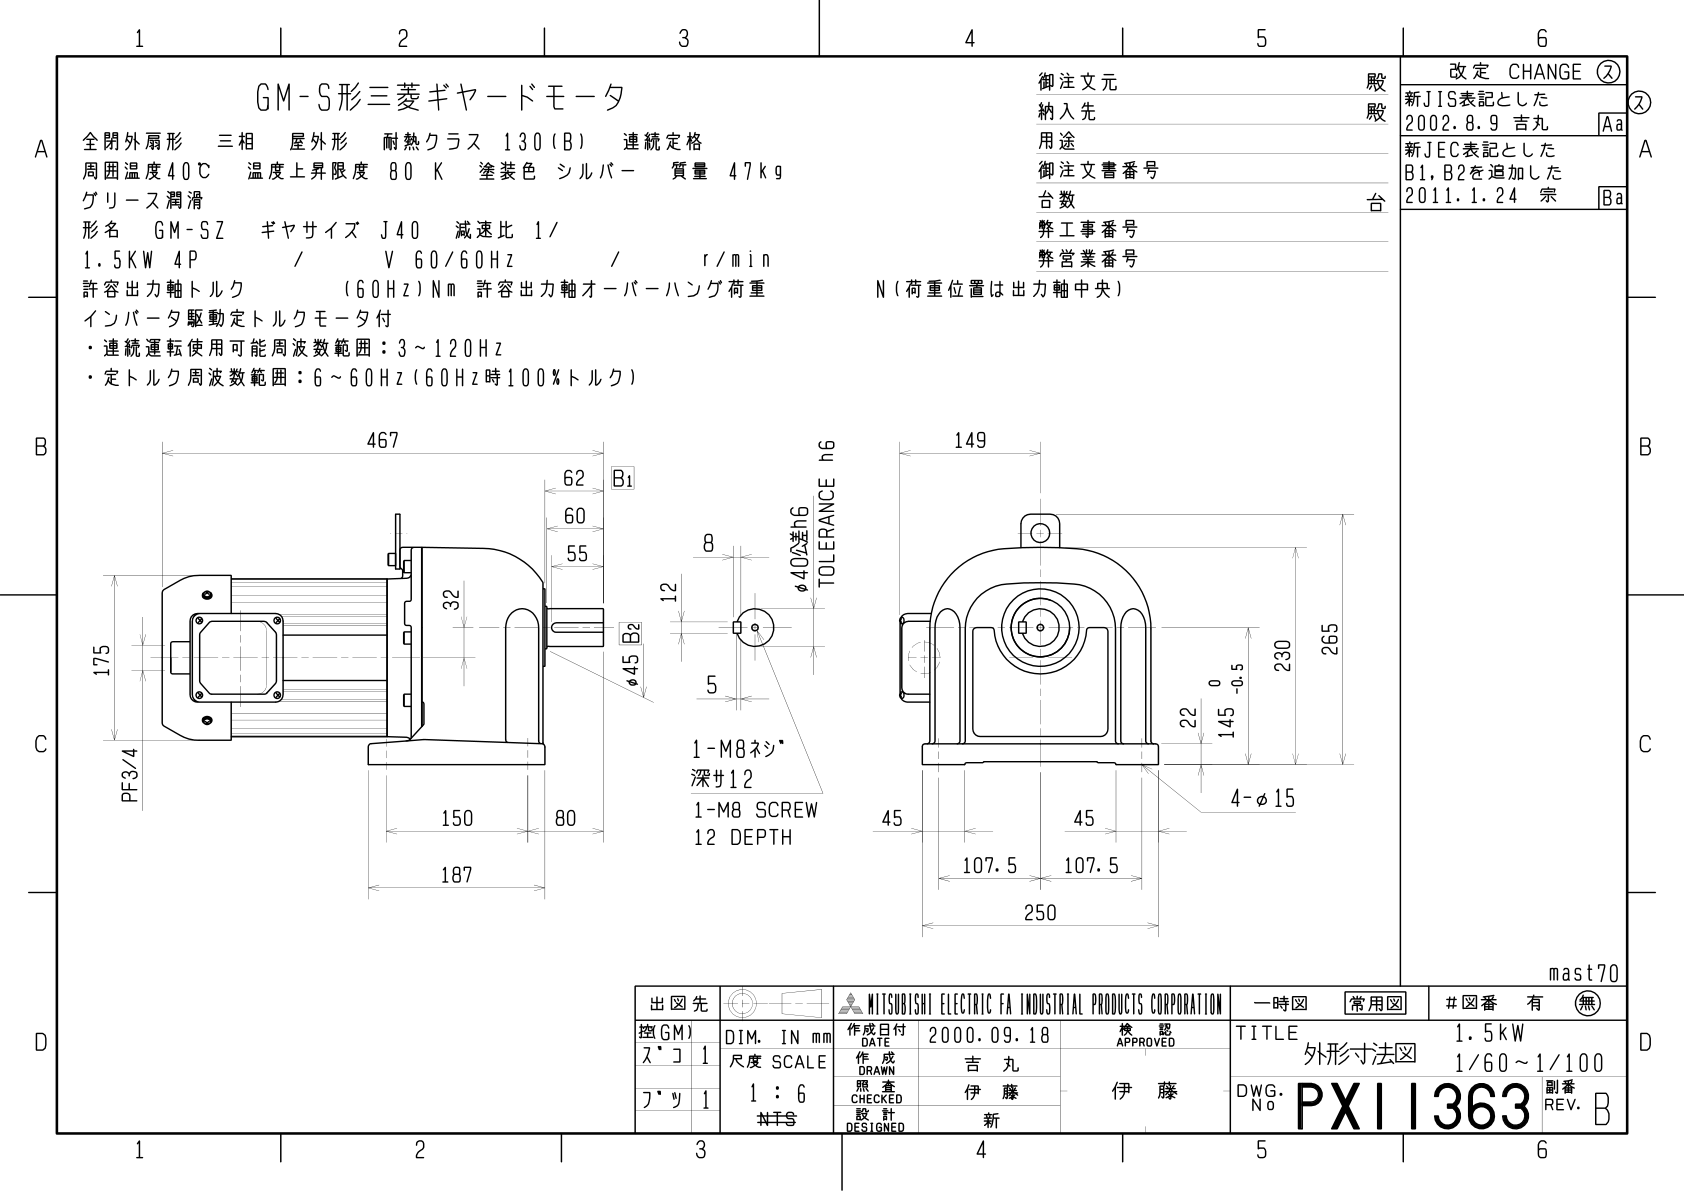GM_S_インバタ屋外＿三相_脚: (75, 394, 1375, 956)
